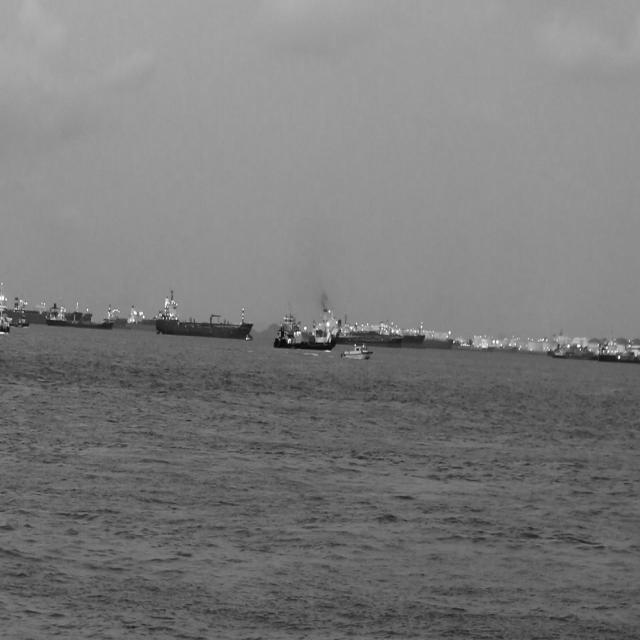ship: (154, 296, 262, 336), (279, 312, 349, 348), (10, 294, 97, 321), (338, 319, 410, 346), (50, 308, 124, 332), (110, 298, 166, 327), (1, 283, 22, 333), (560, 344, 630, 358), (338, 342, 376, 363), (428, 326, 461, 350), (410, 318, 434, 349), (600, 347, 639, 361)
